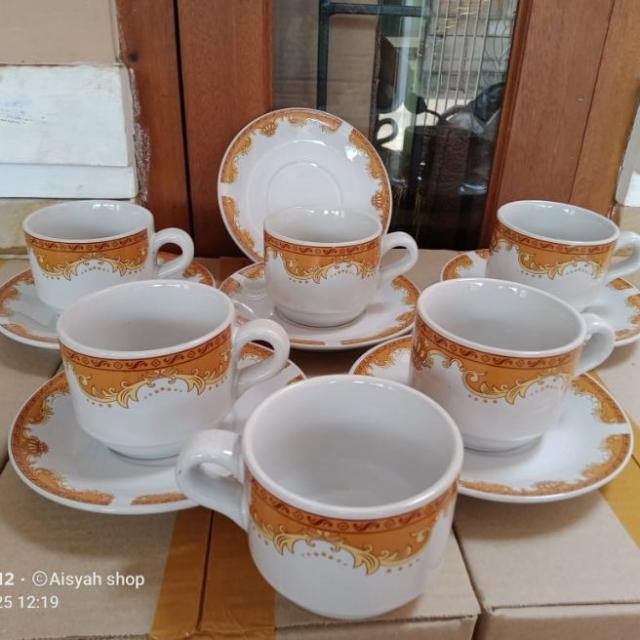cup: (180, 374, 480, 626)
